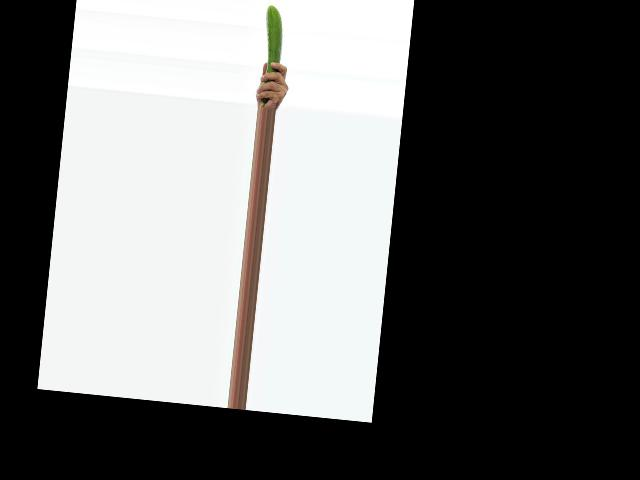cucumber: (256, 4, 285, 107)
